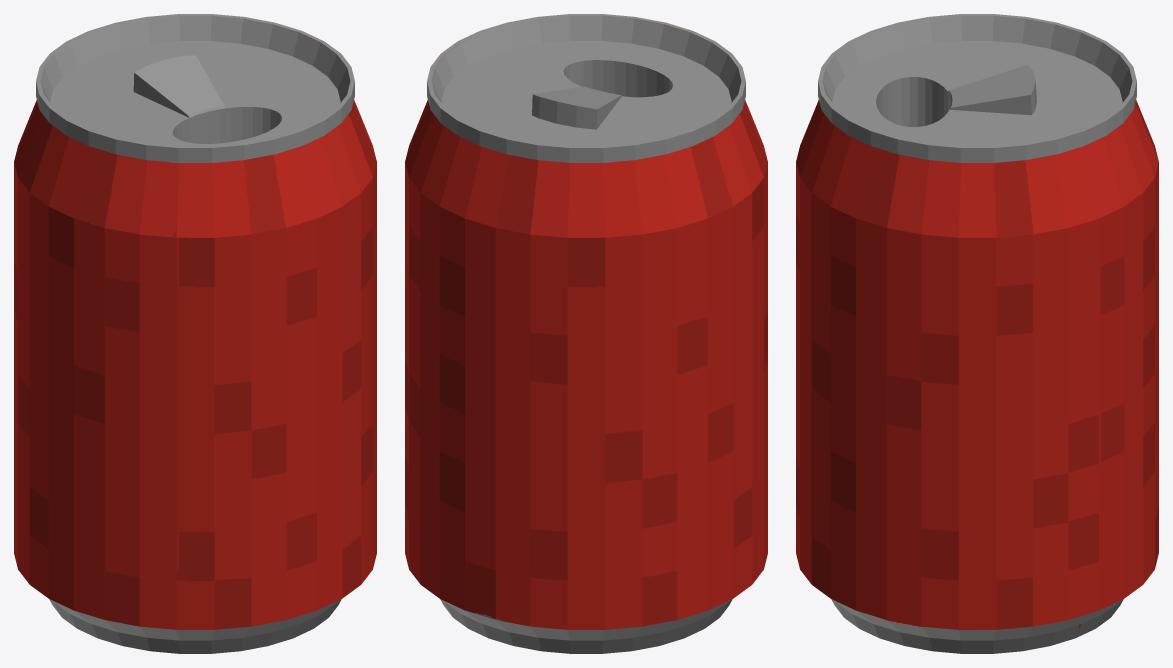
The model's file is cola.fbx.
3 views of the same model, side by side, from view 1: azimuth 30°, elevation 25°; view 2: azimuth 150°, elevation 25°; view 3: azimuth 270°, elevation 25° (orthographic).
Visible parts, largest first — view 1: Cylinder; view 2: Cylinder; view 3: Cylinder.
Boxes of the visible parts, <box> form: Cylinder: <box>14,14,376,653</box>; Cylinder: <box>405,14,767,653</box>; Cylinder: <box>796,14,1158,653</box>.
Size of the model in its own units: 103 by 162 by 104.
